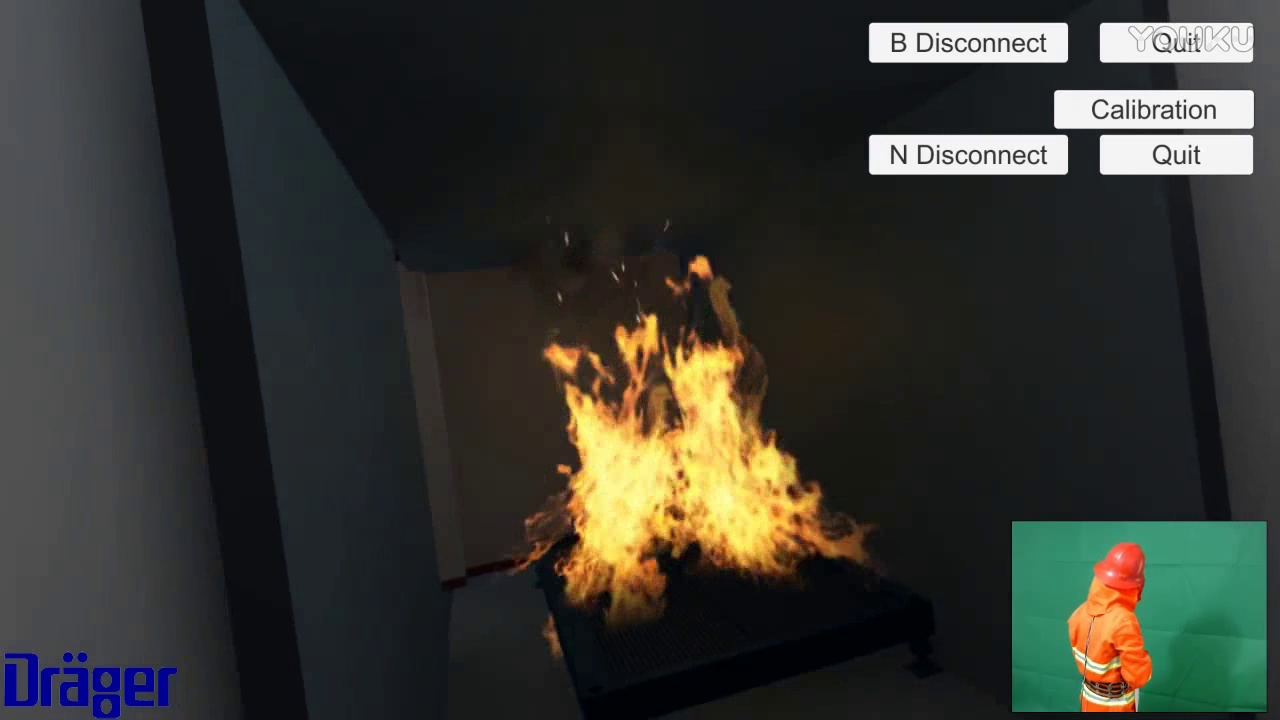fire: (537, 242, 855, 640)
